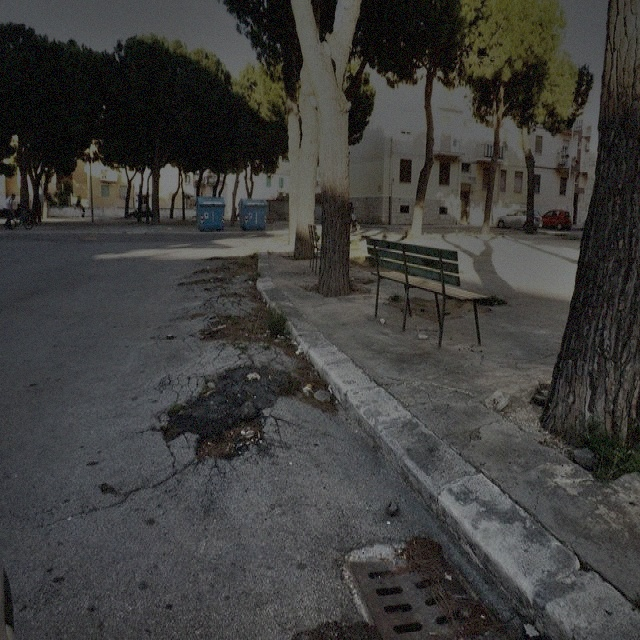pothole: (192, 418, 270, 466), (202, 308, 271, 353)
